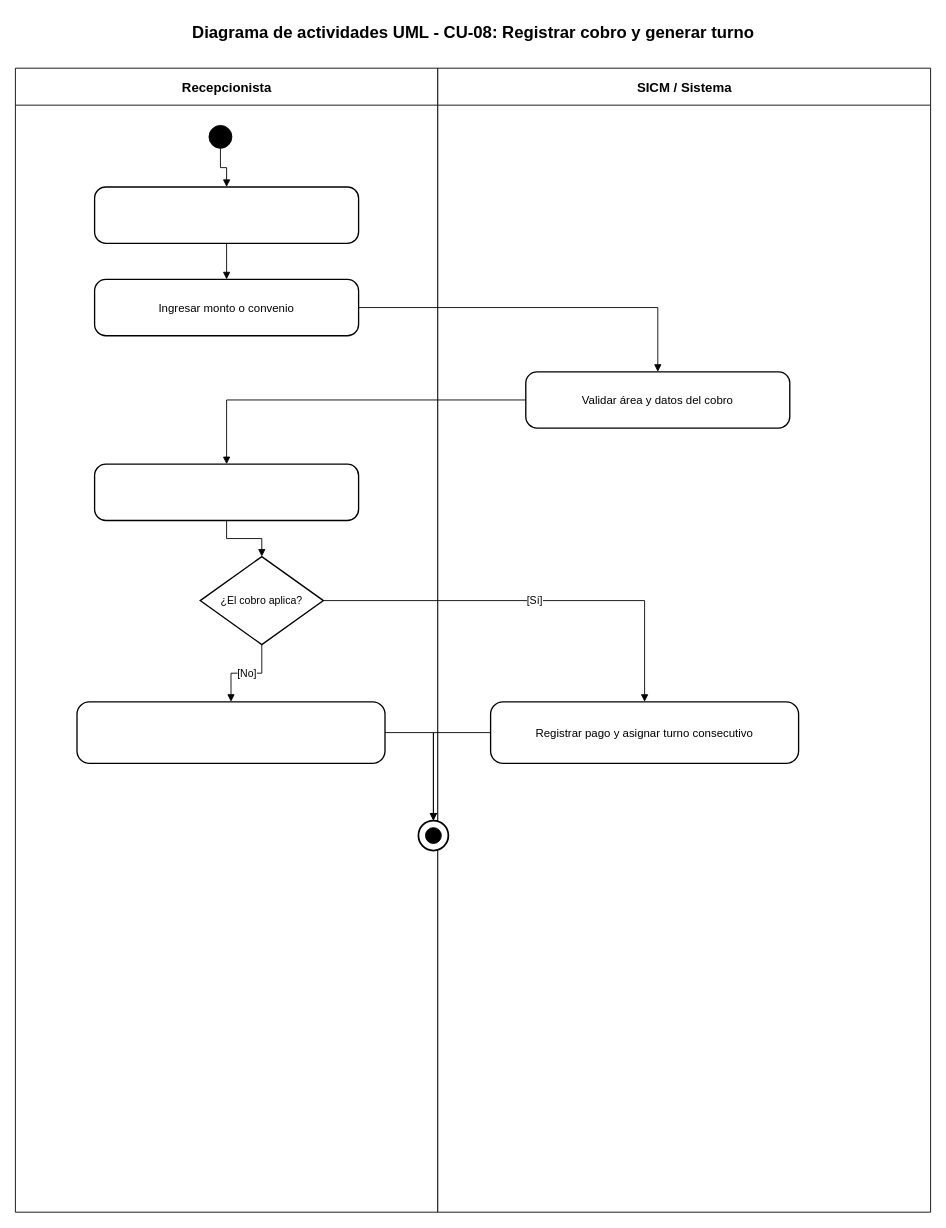
This 946x1228 diagram has some shape labels left out. The centre of each missing label's shape, as x and y in pixels:
"Confirmar el registro" goes at point 226,492.
"Registrar exoneración y asignar turno" goes at point 230,732.
"Seleccionar paciente y servicio" goes at point 226,215.
